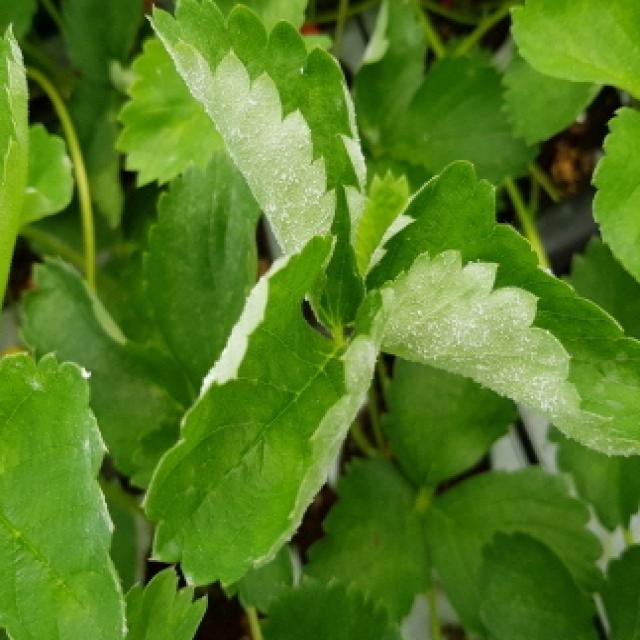Powdery Mildew Leaf: (349, 160, 640, 460), (139, 232, 380, 590), (144, 0, 371, 338), (0, 349, 129, 640)
